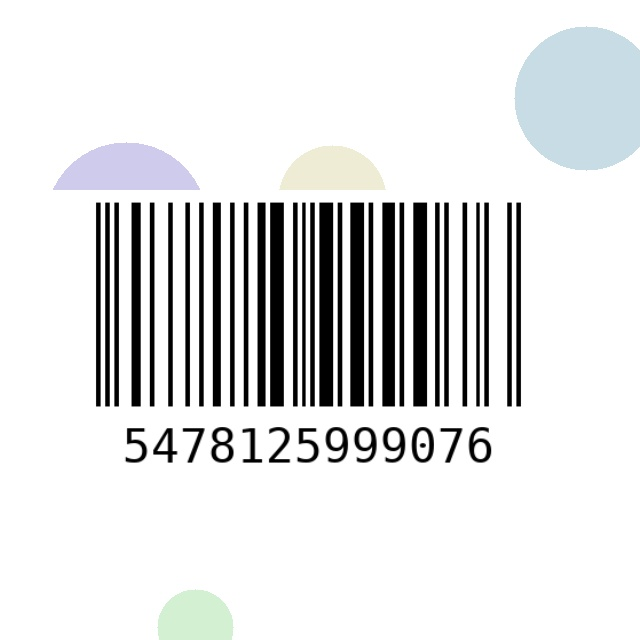barcode: (9, 190, 608, 511)
